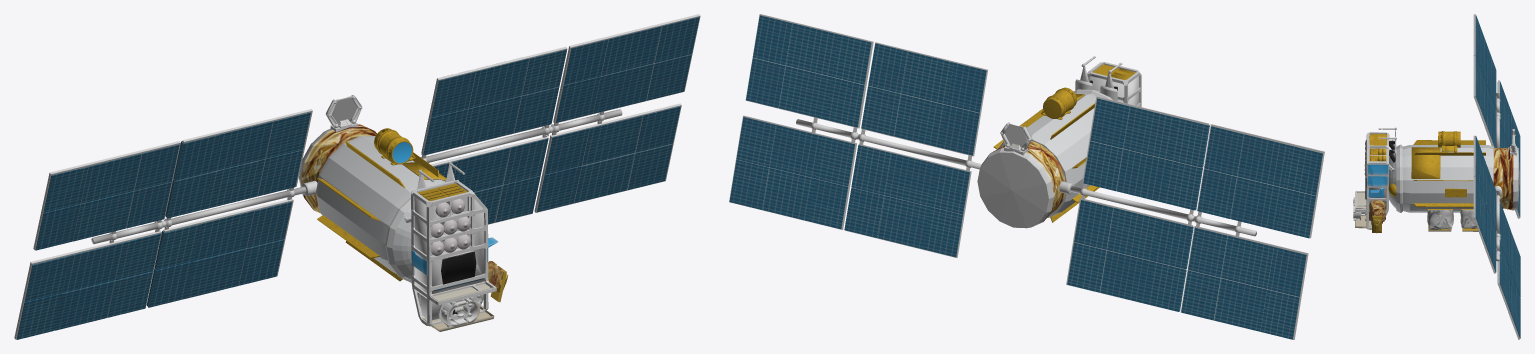
Rendered from basic_satellite.glb.
3 views of the same model, side by side, from view 1: azimuth 30°, elevation 25°; view 2: azimuth 150°, elevation 25°; view 3: azimuth 270°, elevation 25° (orthographic). The views are drawn at different scales.
Visible parts, largest first — view 1: Hull; view 2: Hull; view 3: Hull.
Part boxes in pixels (x1,y1,x2,y2): Hull: [14, 14, 700, 339]; Hull: [729, 14, 1324, 339]; Hull: [1353, 14, 1520, 339].
Size of the model in its own units: 2 by 0.5648 by 0.6972.
Materials: 1 (1 with a texture image).
